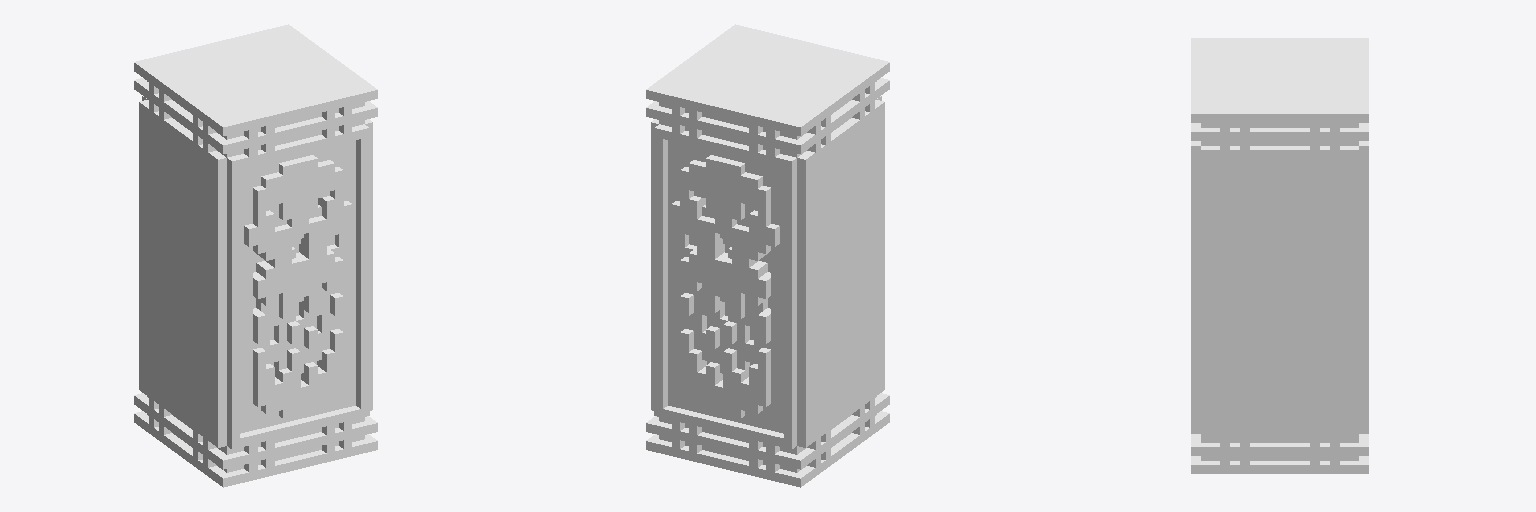
The model's file is Pillar6.obj.
3 views of the same model, side by side, from view 1: azimuth 30°, elevation 25°; view 2: azimuth 150°, elevation 25°; view 3: azimuth 270°, elevation 25° (orthographic).
Visible parts, largest first — view 1: object 1; view 2: object 1; view 3: object 1.
Part boxes in pixels (bbox=[...]): object 1: bbox=[134, 24, 377, 487]; object 1: bbox=[646, 24, 889, 487]; object 1: bbox=[1191, 38, 1368, 473].
Size of the model in its own units: 1.8 by 4 by 1.8.